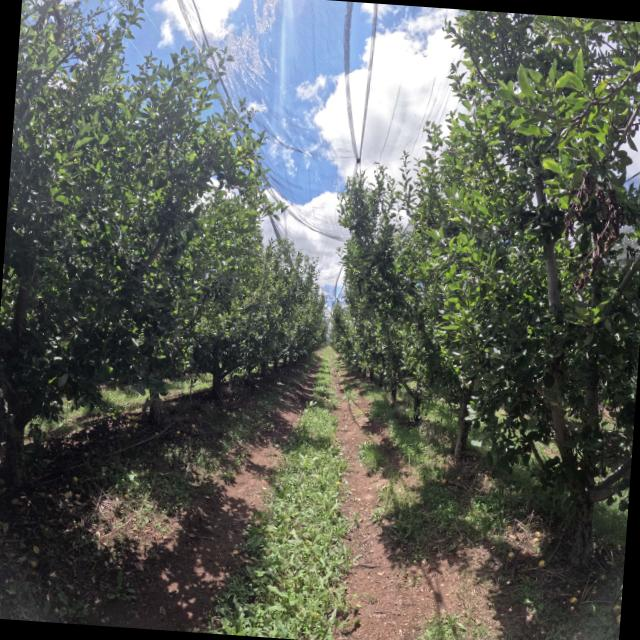-FireBlight-: (563, 148, 620, 291)
